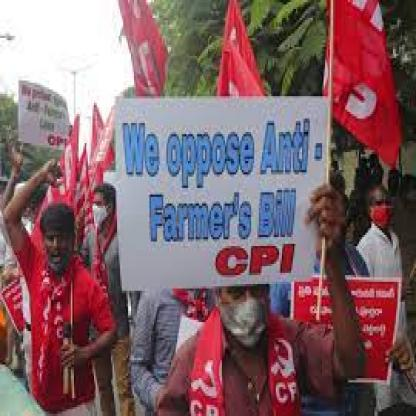BANNER: (105, 96, 330, 315)
